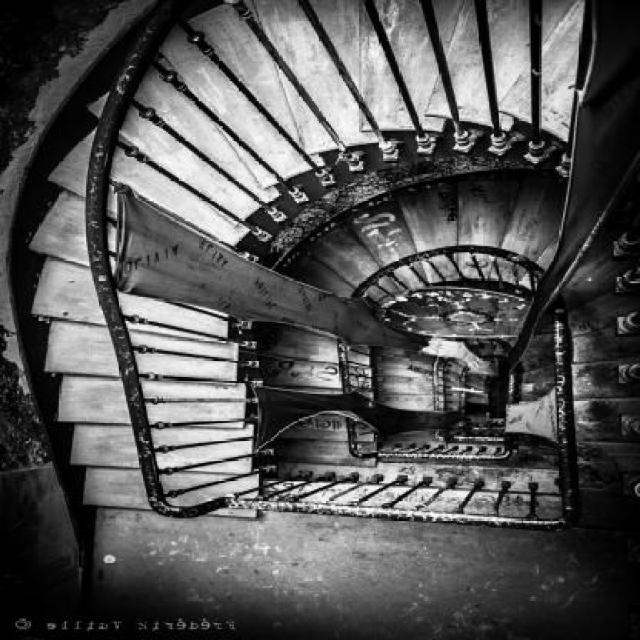stair: (20, 0, 640, 523)
